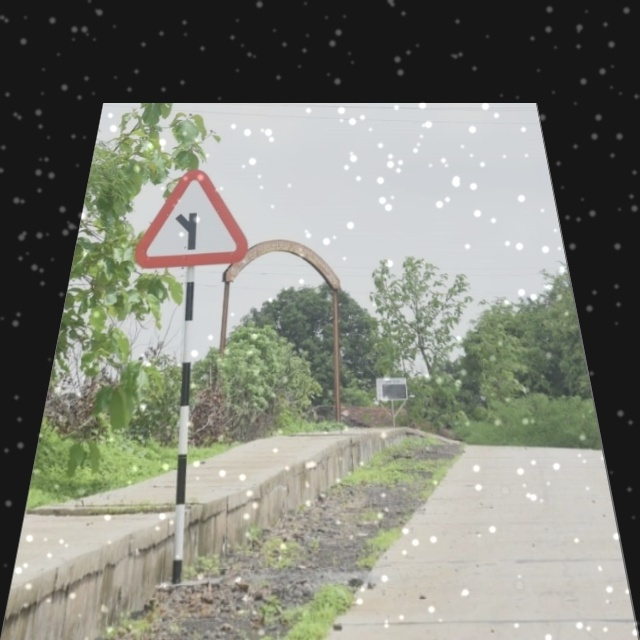Y_Intersection: (142, 171, 250, 262)
